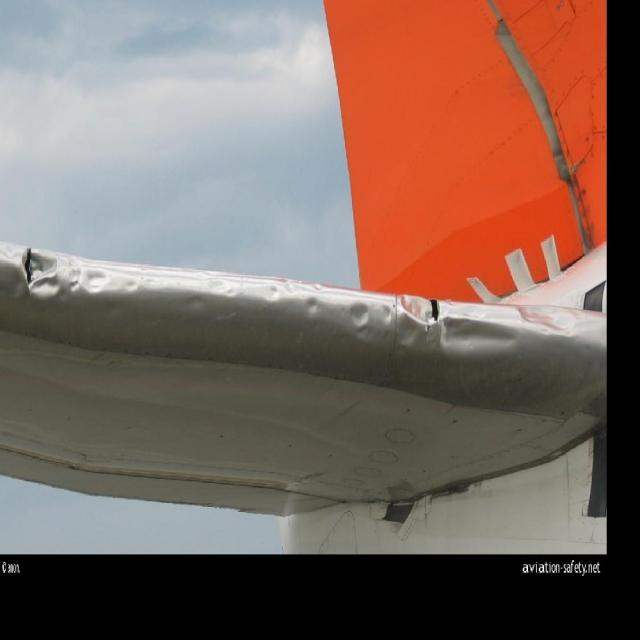dent: (15, 242, 582, 364)
